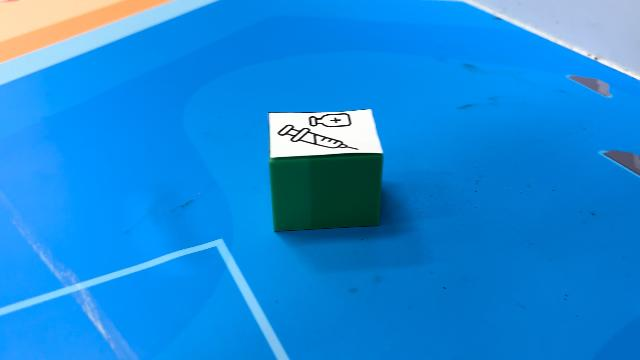syringe: (268, 108, 384, 232)
